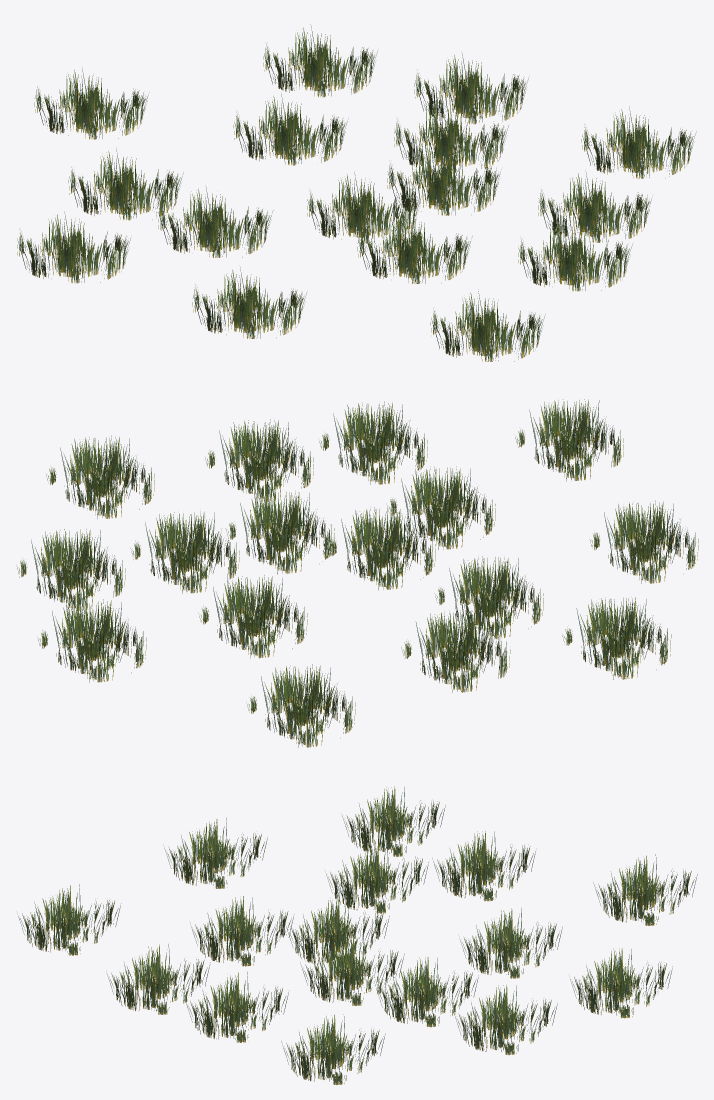
The model's file is yerba.obj.
3 renders of one model, top to bottom at view 1: azimuth 30°, elevation 25°; view 2: azimuth 150°, elevation 25°; view 3: azimuth 270°, elevation 25°, orthographic. The views are drawn at different scales.
Visible parts, largest first — view 1: Grass_B_Low_Dense.014; view 2: Grass_B_Low_Dense.014; view 3: Grass_B_Low_Dense.014.
Part boxes in pixels (x1=…): Grass_B_Low_Dense.014: x1=17, y1=24, x2=696, y2=361; Grass_B_Low_Dense.014: x1=17, y1=399, x2=698, y2=747; Grass_B_Low_Dense.014: x1=18, y1=786, x2=697, y2=1084.
Bounding box in the file's own units: 13.72 × 1 × 14.53.
Materials: 16 (16 with a texture image).
